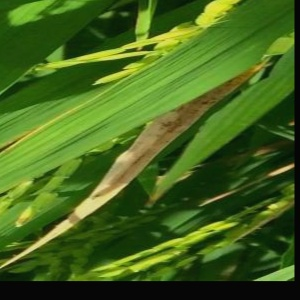Leaf_Blast: (85, 151, 138, 201)
